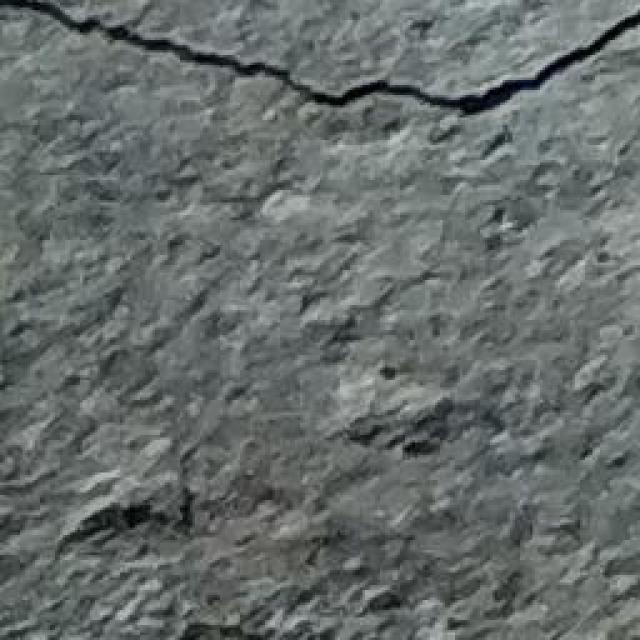Transverse: (0, 0, 640, 109)
